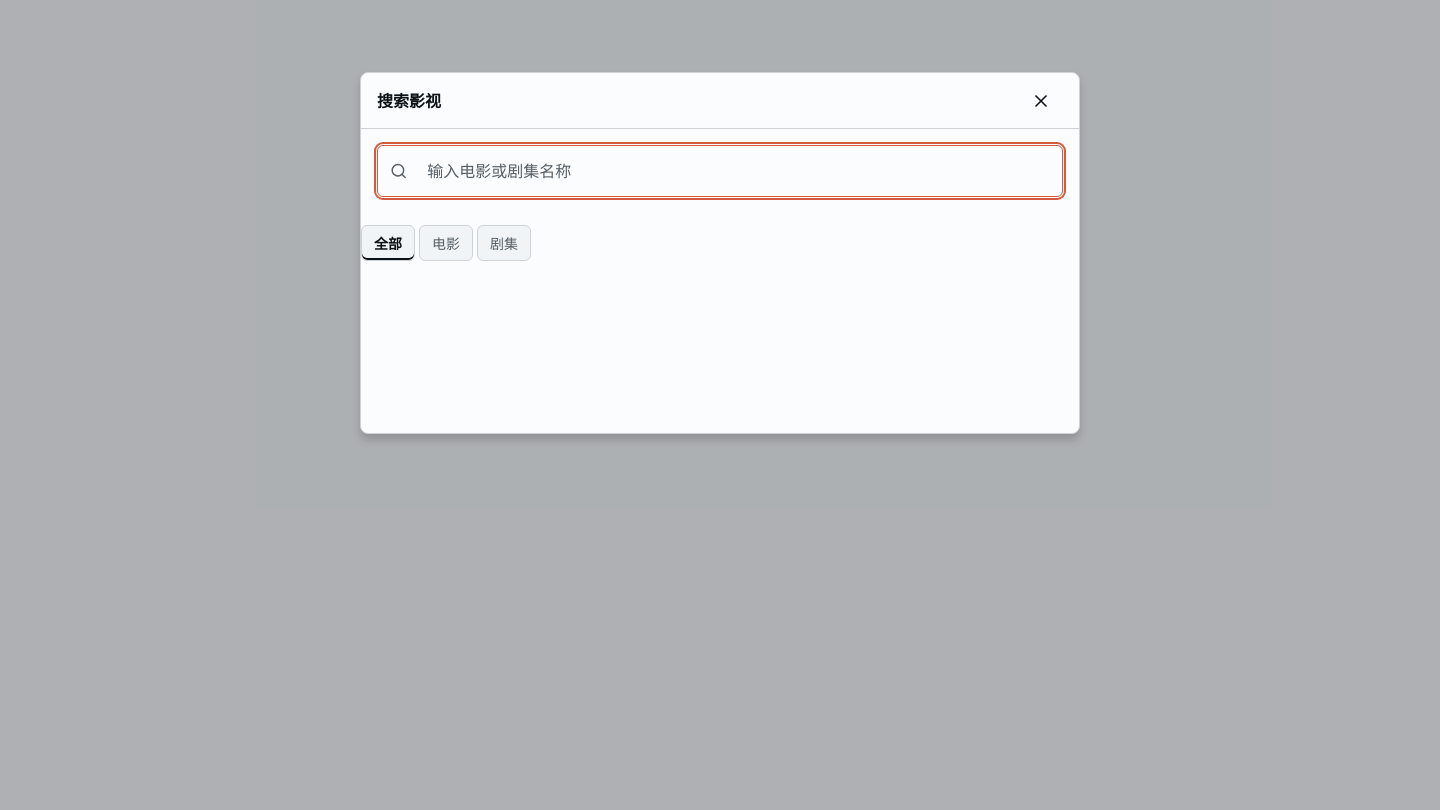
Test: SearchDialog › ignores a pending custom creation response after the search query changes
In the search field named "搜索影视": point(733, 171) 415,149 -> 1050,193, type "旧自定义"
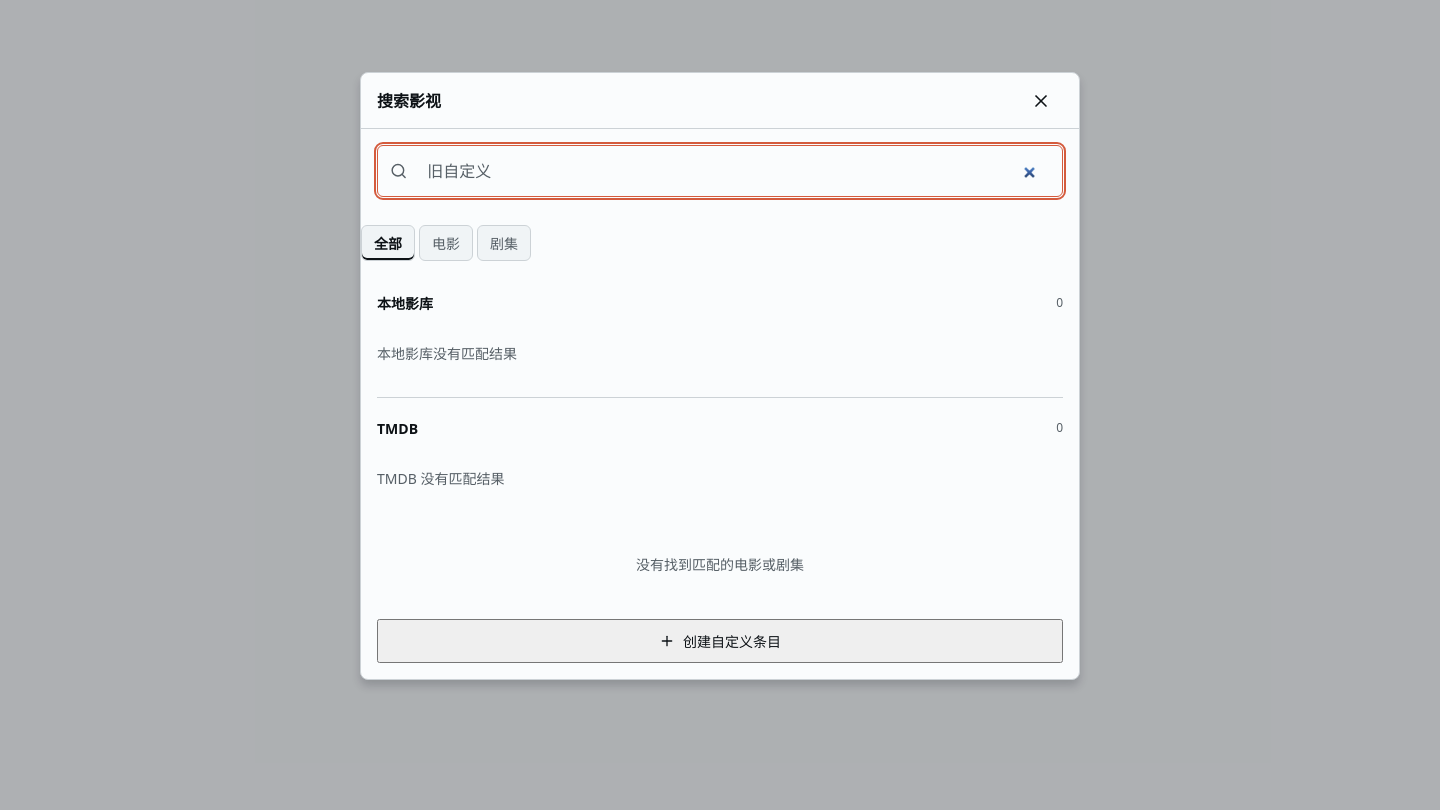
Click the button "创建自定义条目": point(720, 641) 377,619 -> 1063,663
(page scrolled)
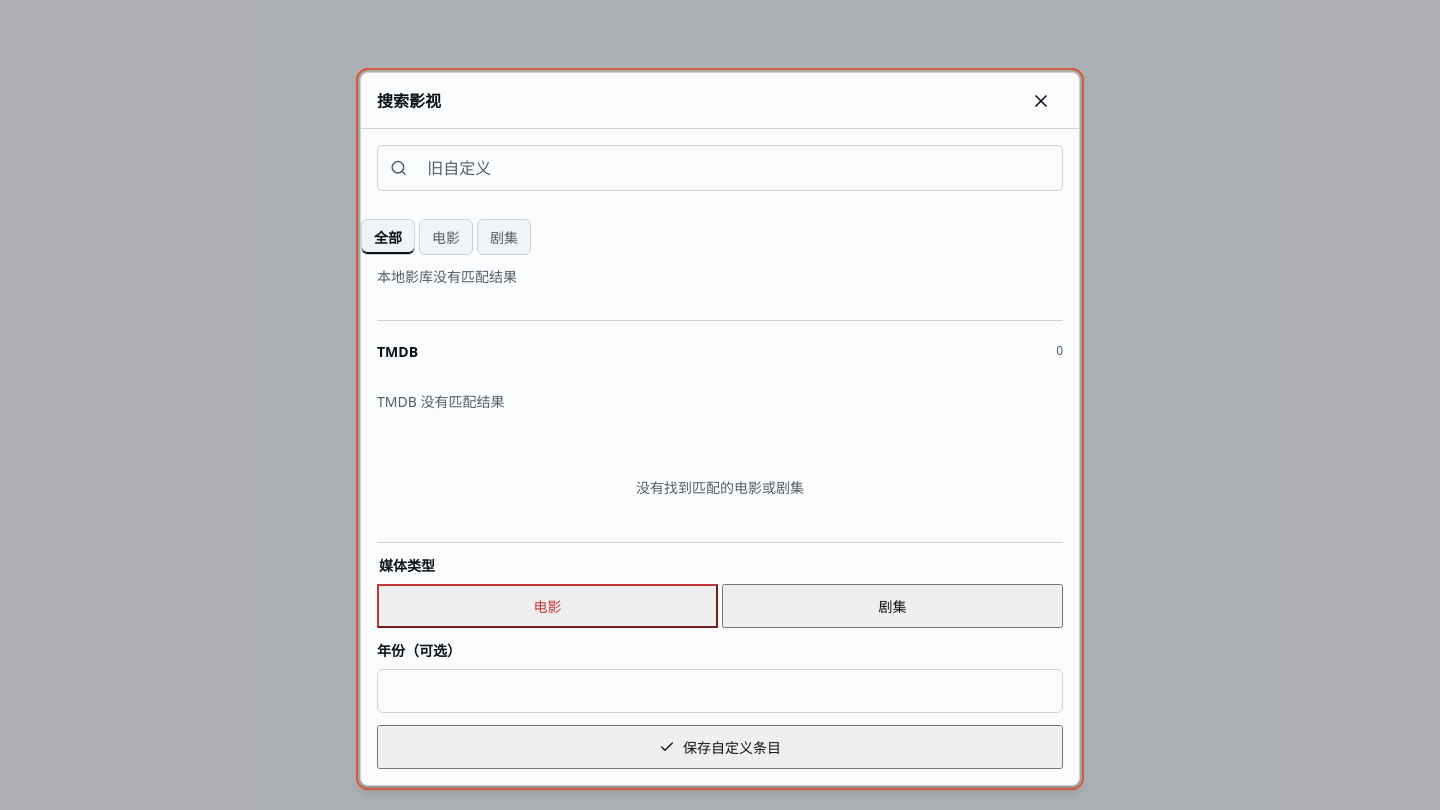
Click the button "保存自定义条目": point(720, 747) 377,725 -> 1063,769
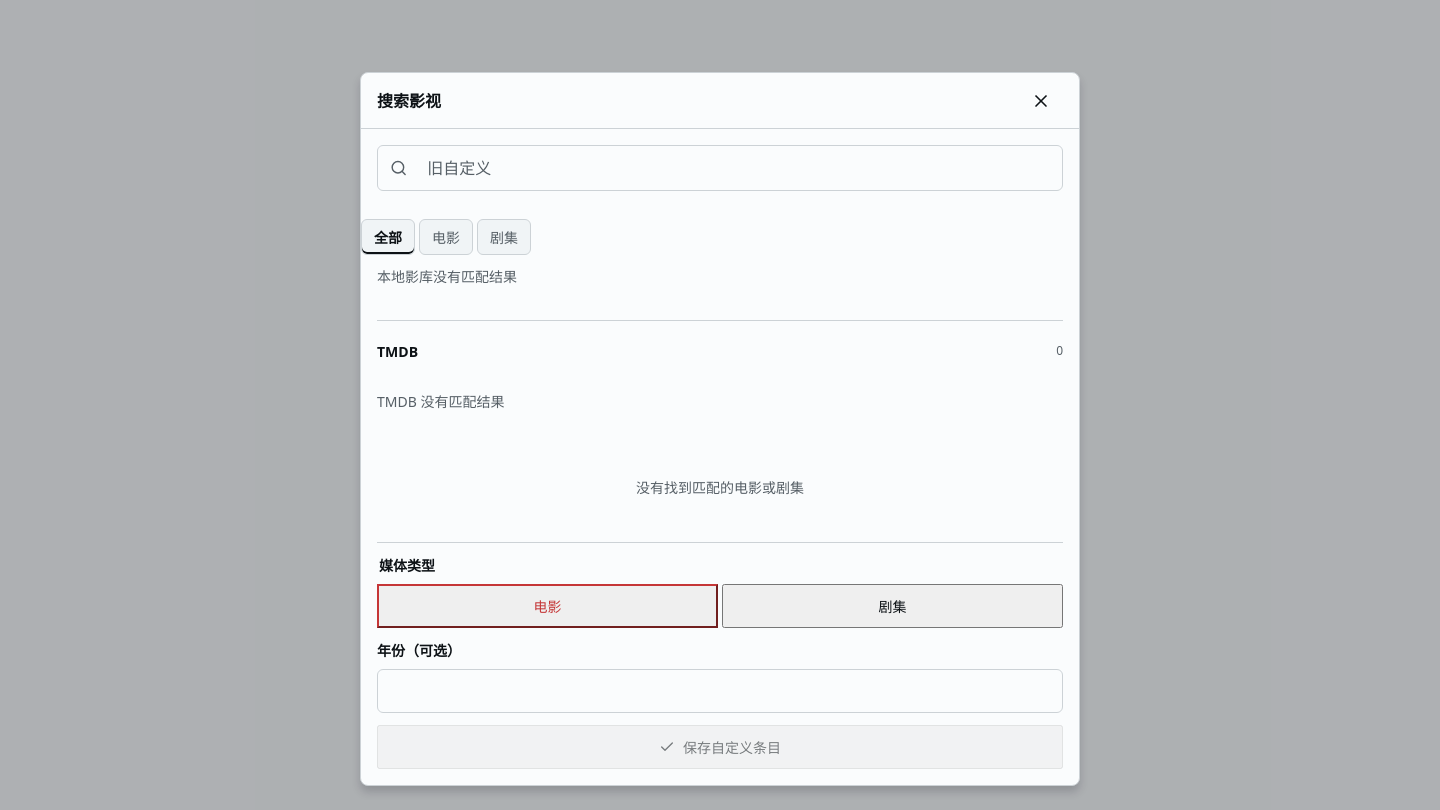
Clear the search field named "搜索影视": point(733, 168) 415,146 -> 1050,190
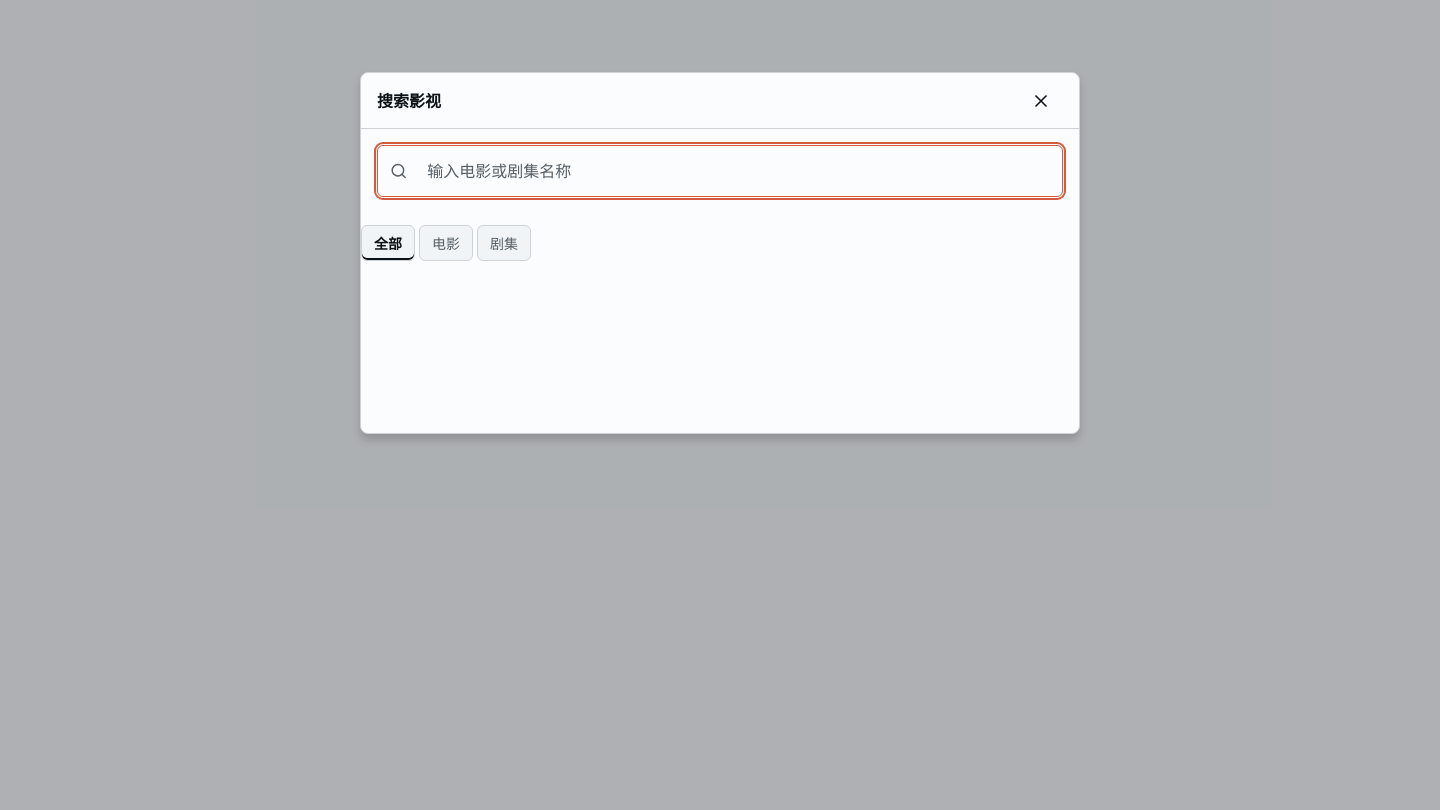
In the search field named "搜索影视": point(733, 171) 415,149 -> 1050,193, type "新搜索"
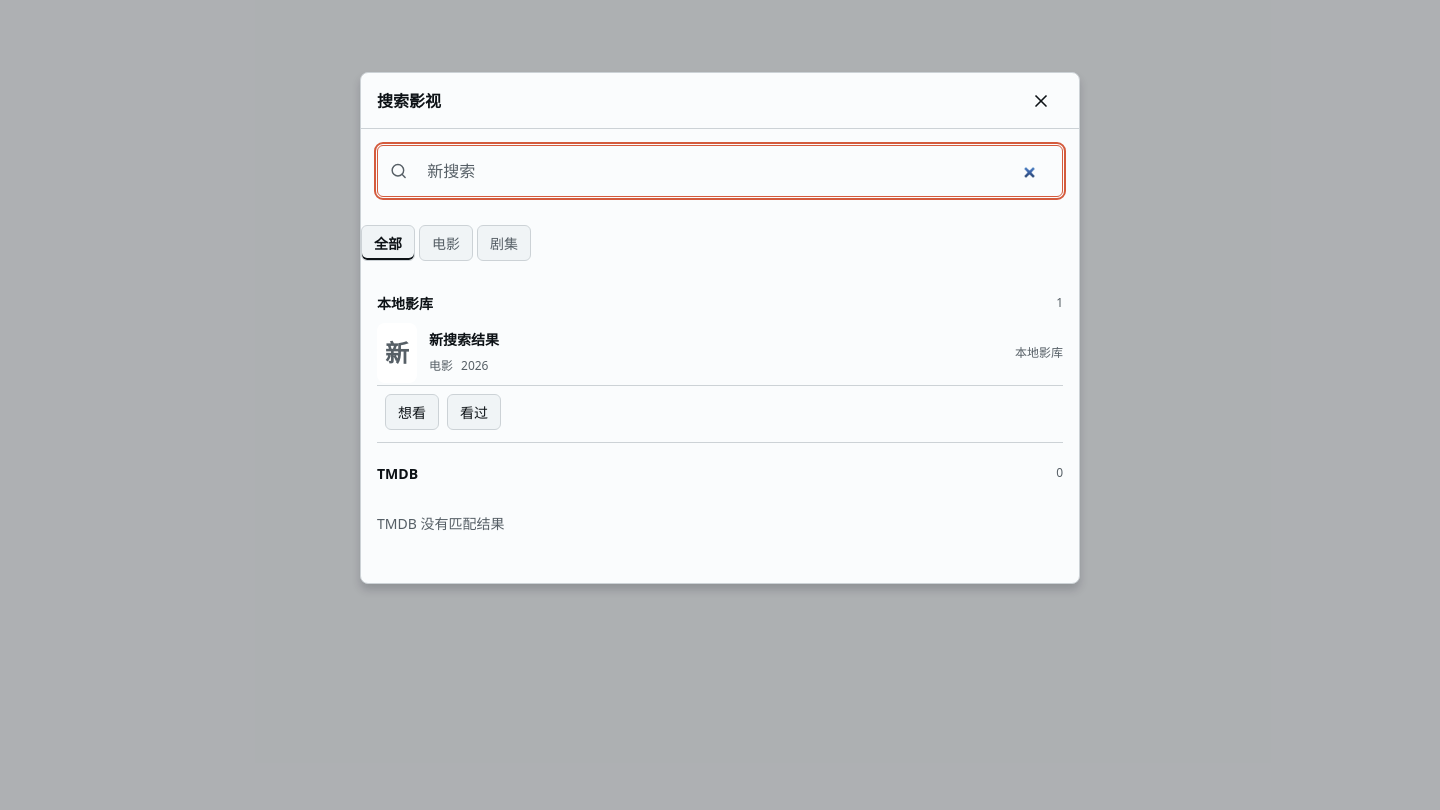
Expected: the dialog "搜索影视" is shown, 360,72 -> 1080,584
Result: the button "新 新搜索结果 电影 2026 本地影库" is shown at 377,321 -> 1063,386
